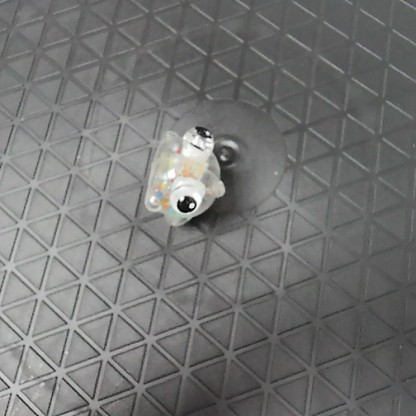whitefish: (143, 123, 229, 232)
